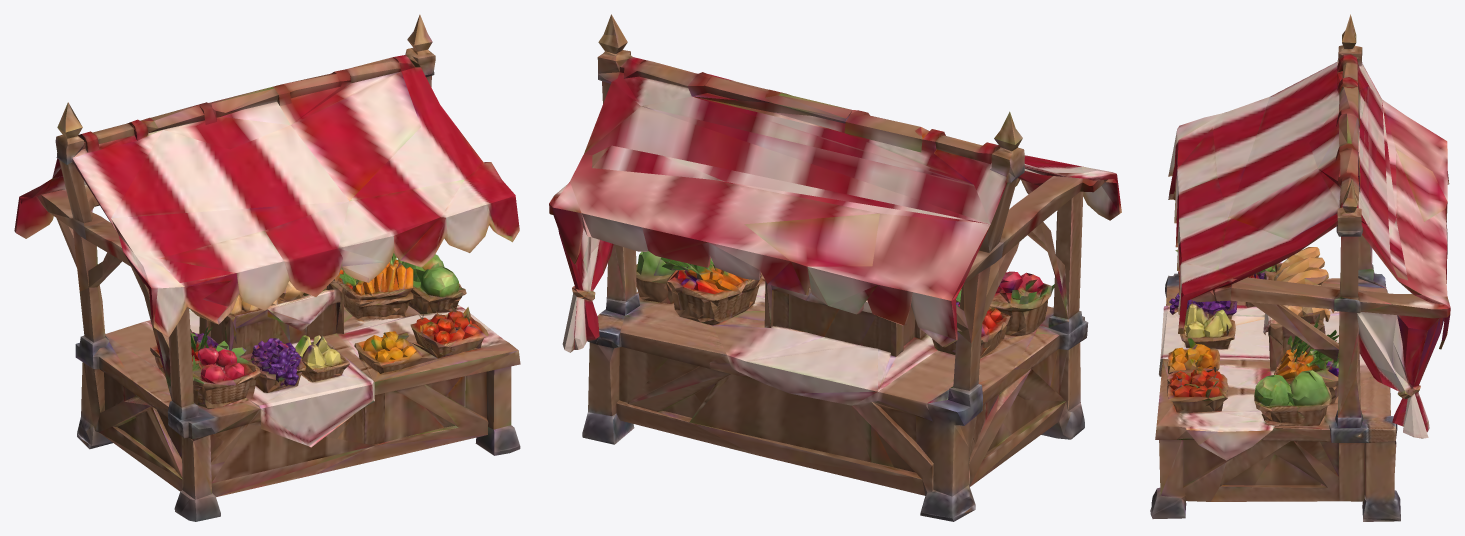
Rendered from town_stall.glb.
The picture shows the model from 3 angles, left to right: view 1: azimuth 30°, elevation 25°; view 2: azimuth 150°, elevation 25°; view 3: azimuth 270°, elevation 25°; orthographic projection. The views are drawn at different scales.
Parts seen in each view (by area): view 1: output_unwrapped; view 2: output_unwrapped; view 3: output_unwrapped.
Boxes of the visible parts, bbox=[...] form: output_unwrapped: bbox=[14, 14, 520, 521]; output_unwrapped: bbox=[549, 14, 1121, 521]; output_unwrapped: bbox=[1150, 14, 1450, 521].
Bounding box in the file's own units: 1.9 × 1.75 × 1.39.
Materials: 1 (1 with a texture image).
